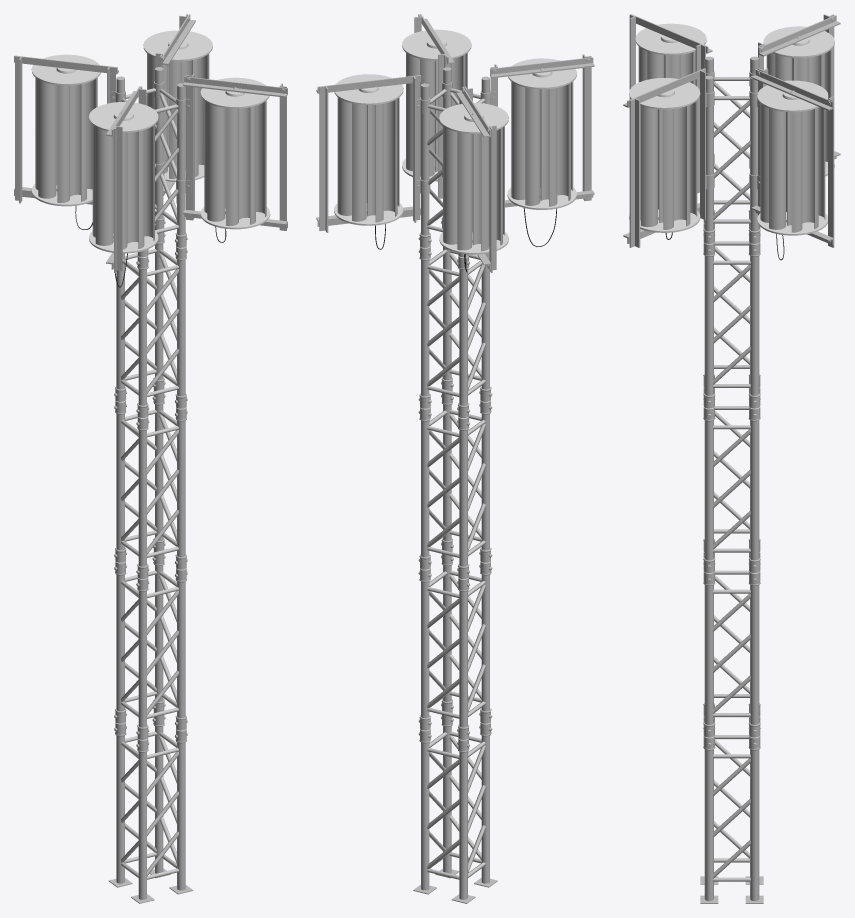
File: KB3D_DMZ_Antenna_C.fbx
3 views of the same model, side by side, from view 1: azimuth 30°, elevation 25°; view 2: azimuth 150°, elevation 25°; view 3: azimuth 270°, elevation 25° (orthographic). The views are drawn at different scales.
Parts seen in each view (by area): view 1: KB3D_DMZ_Antenna_C_Main; view 2: KB3D_DMZ_Antenna_C_Main; view 3: KB3D_DMZ_Antenna_C_Main.
Boxes of the visible parts, left/top/right/bottom form: KB3D_DMZ_Antenna_C_Main: left=14, top=14, right=287, bottom=903; KB3D_DMZ_Antenna_C_Main: left=316, top=14, right=594, bottom=903; KB3D_DMZ_Antenna_C_Main: left=623, top=14, right=840, bottom=903.
Size of the model in its own units: 240 by 1013 by 240.
